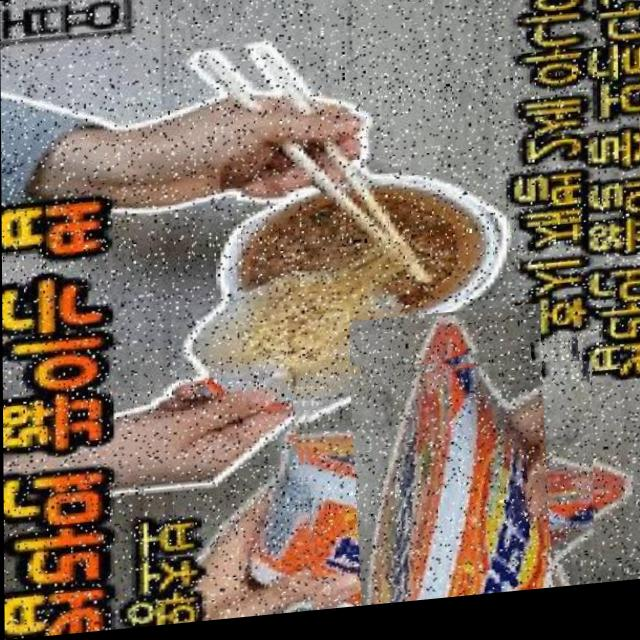Miscellaneous: (296, 350, 592, 618)
